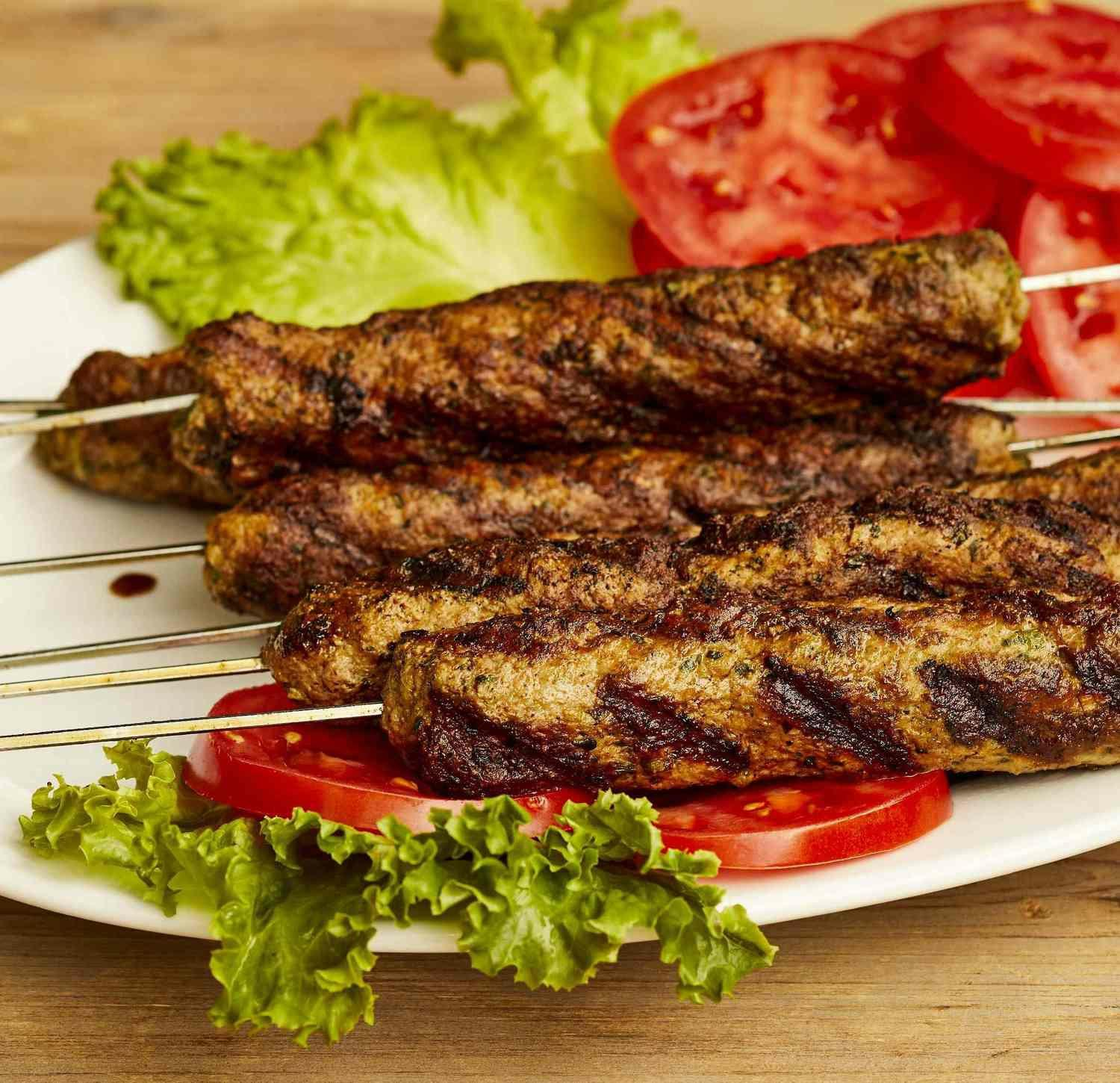Kebab: (35, 232, 1029, 505), (263, 457, 1120, 710), (205, 416, 1029, 612), (369, 601, 1120, 796)
